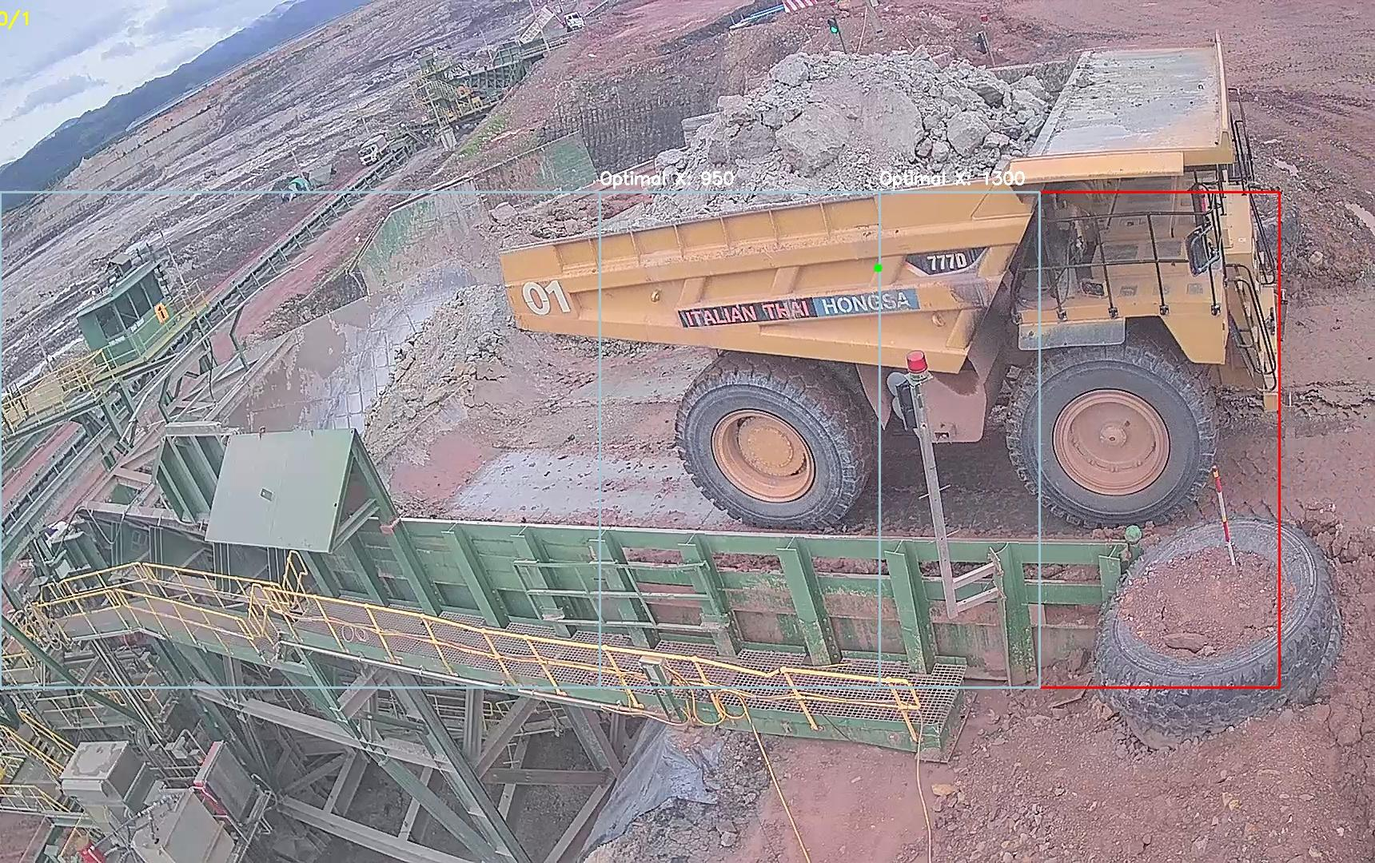company: (669, 282, 932, 333)
full_load: (673, 48, 1029, 207)
mining_truck: (489, 22, 1293, 535)
tail_number: (514, 268, 585, 332)
truck_size: (911, 245, 986, 279)
